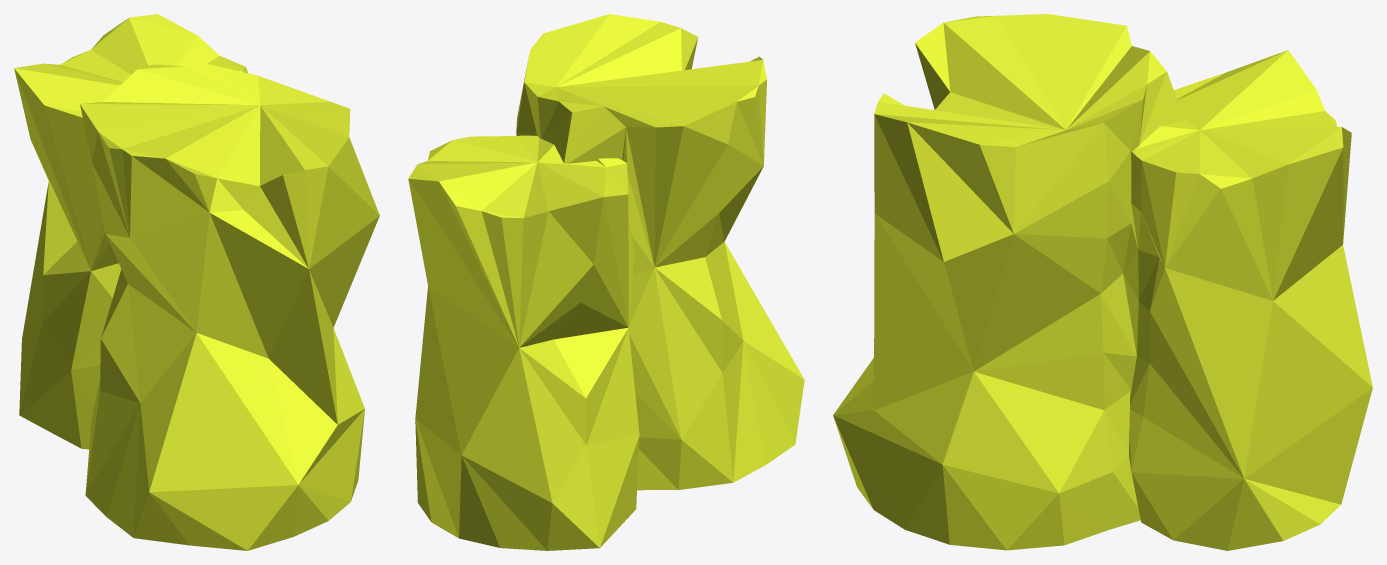
The model's file is CoralRock_3.fbx.
The picture shows the model from 3 angles, left to right: view 1: azimuth 30°, elevation 25°; view 2: azimuth 150°, elevation 25°; view 3: azimuth 270°, elevation 25°; orthographic projection. The views are drawn at different scales.
Parts seen in each view (by area): view 1: CoralRock_3; view 2: CoralRock_3; view 3: CoralRock_3.
Part boxes in pixels (box(x1,y1,x2,y2)): CoralRock_3: box(14, 14, 379, 550); CoralRock_3: box(408, 14, 804, 550); CoralRock_3: box(833, 14, 1372, 550).
Bounding box in the file's own units: 3203 × 4756 × 5437.
